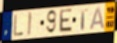9: (45, 10, 58, 36)
A: (89, 6, 105, 31)
E: (58, 8, 73, 33)
I: (26, 11, 33, 38)
L: (13, 14, 24, 37)
T: (78, 8, 89, 32)
